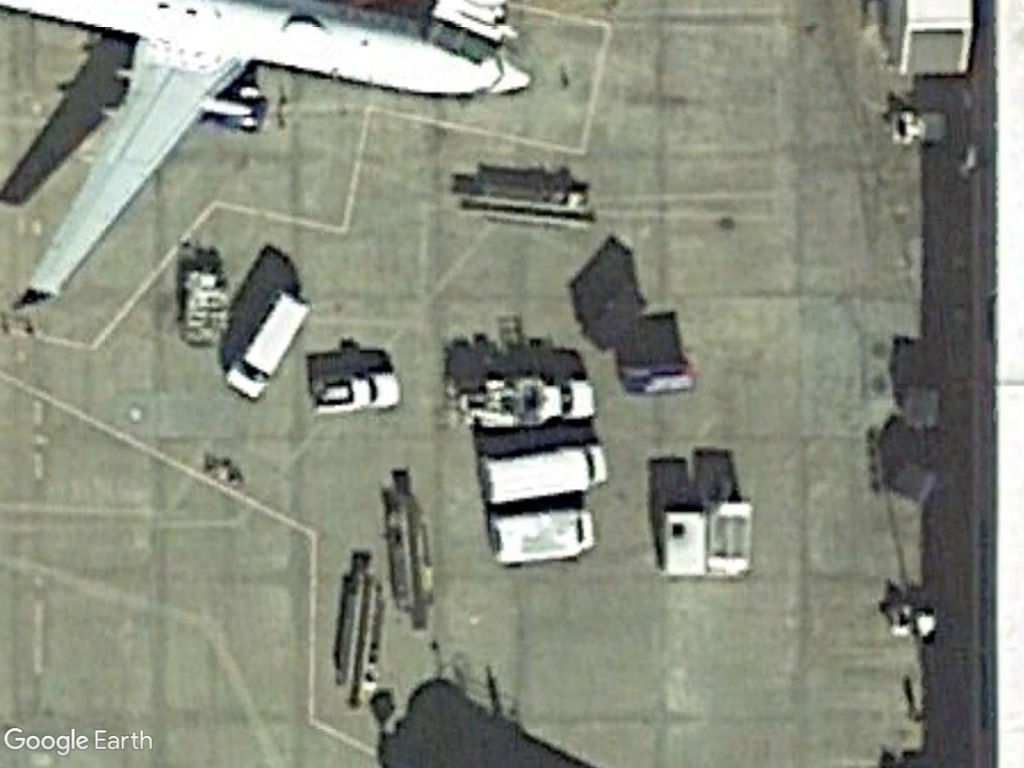van: (216, 283, 310, 402), (477, 437, 618, 508)
